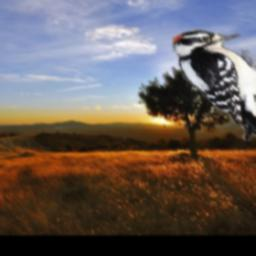Woodpecker: (172, 29, 256, 141)
